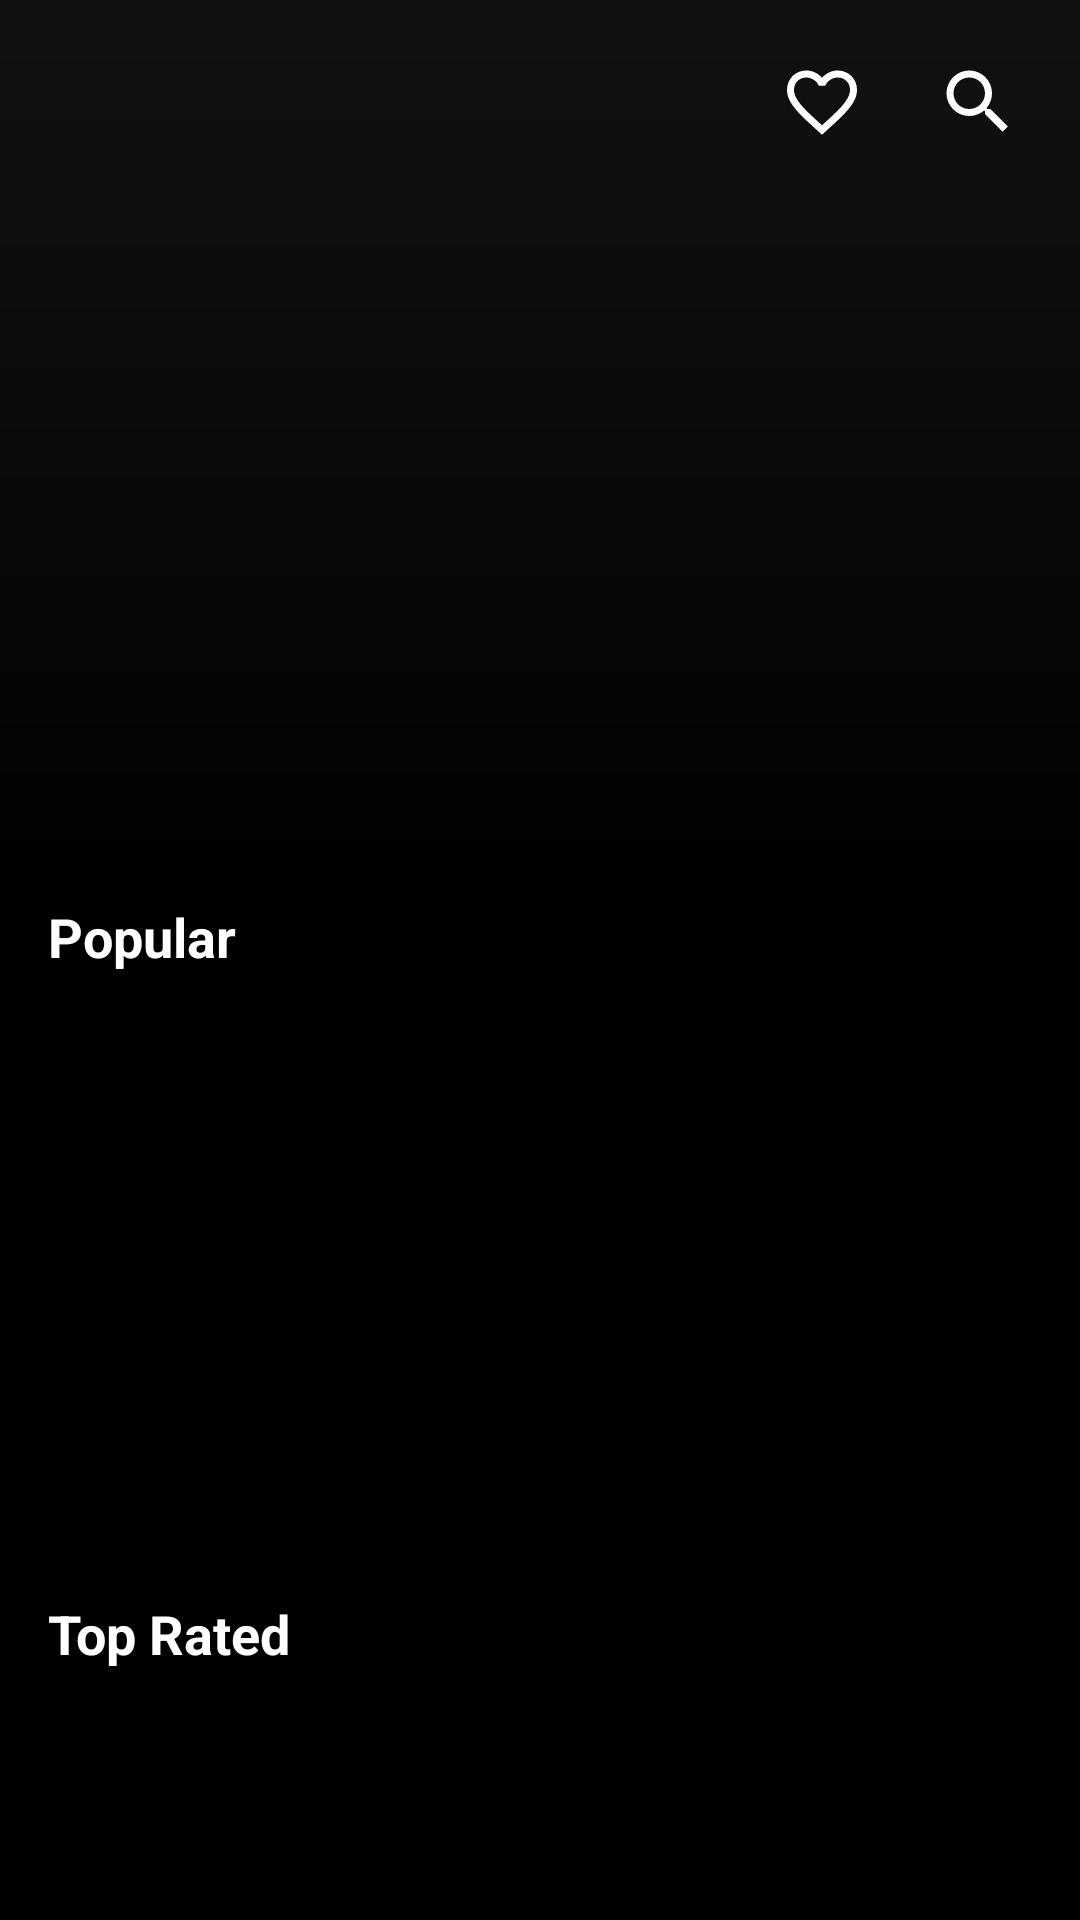

Icon click points for this 1080x1920 phone screenshot, format point (x, y):
My List: point (822, 102)
Search movies: point (977, 101)
